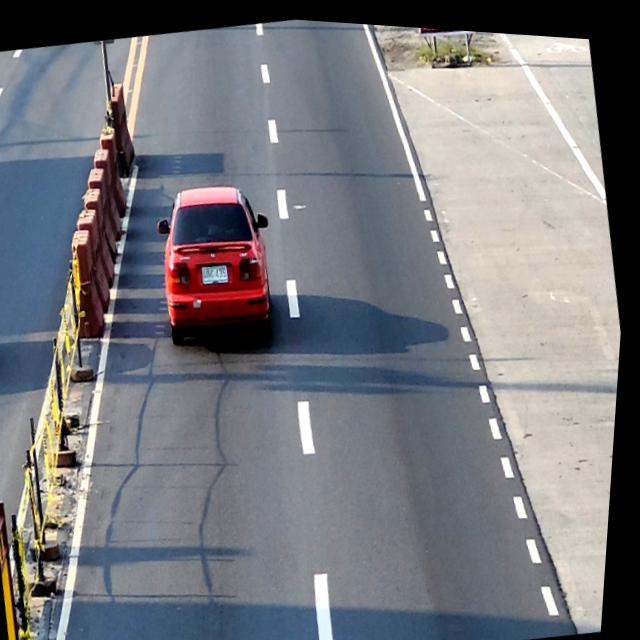Car: (148, 171, 294, 357)
License-Plate: (204, 260, 232, 281)
